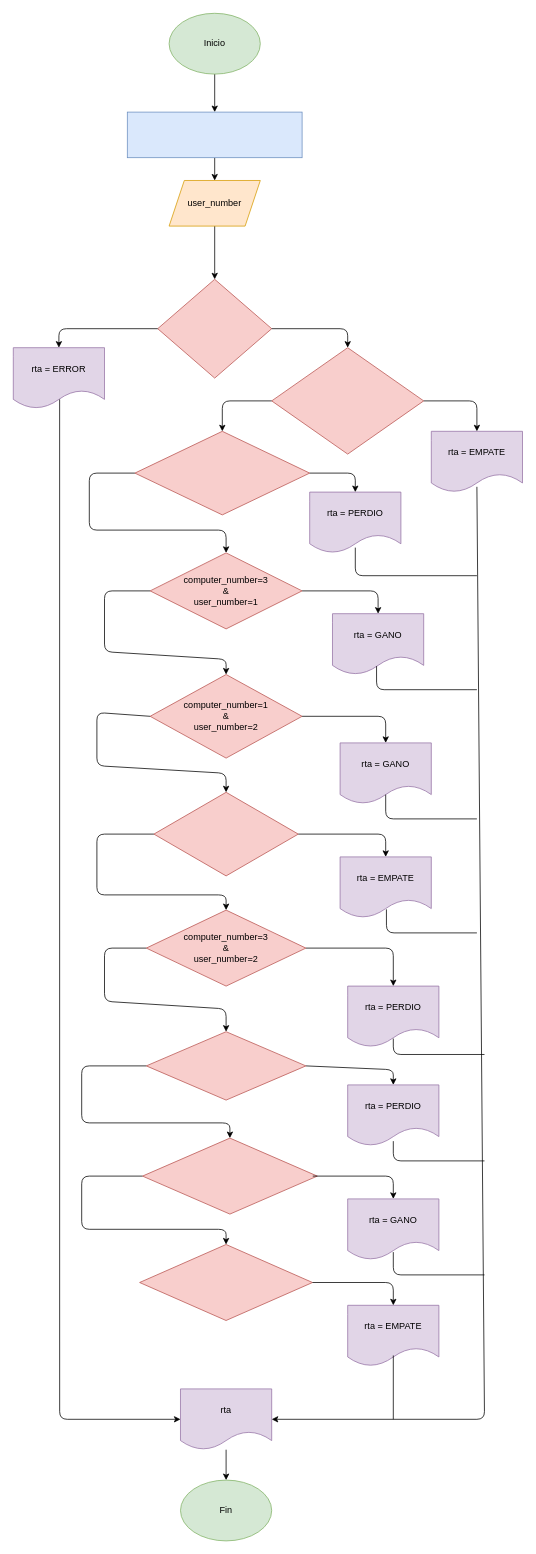
Image size: 536x1554. Some labels were removed from this diagram. Each missing label, with the box of its shape:
computer_number = 1 & user_nuumber = 1: (271, 347, 424, 454)
computer_number = randint(1,3): (127, 111, 302, 158)
computer_number= 2 & user_number=1: (134, 431, 310, 515)
computer_number=1 & user_number=3: (146, 1031, 306, 1100)
computer_number=2 & user_number=2: (153, 792, 298, 876)
computer_number=2 & user_number=3: (142, 1137, 317, 1214)
computer_number=3 & user_number=3: (139, 1244, 313, 1320)
user_number >= 1 & user_number <= 3: (157, 279, 272, 378)
